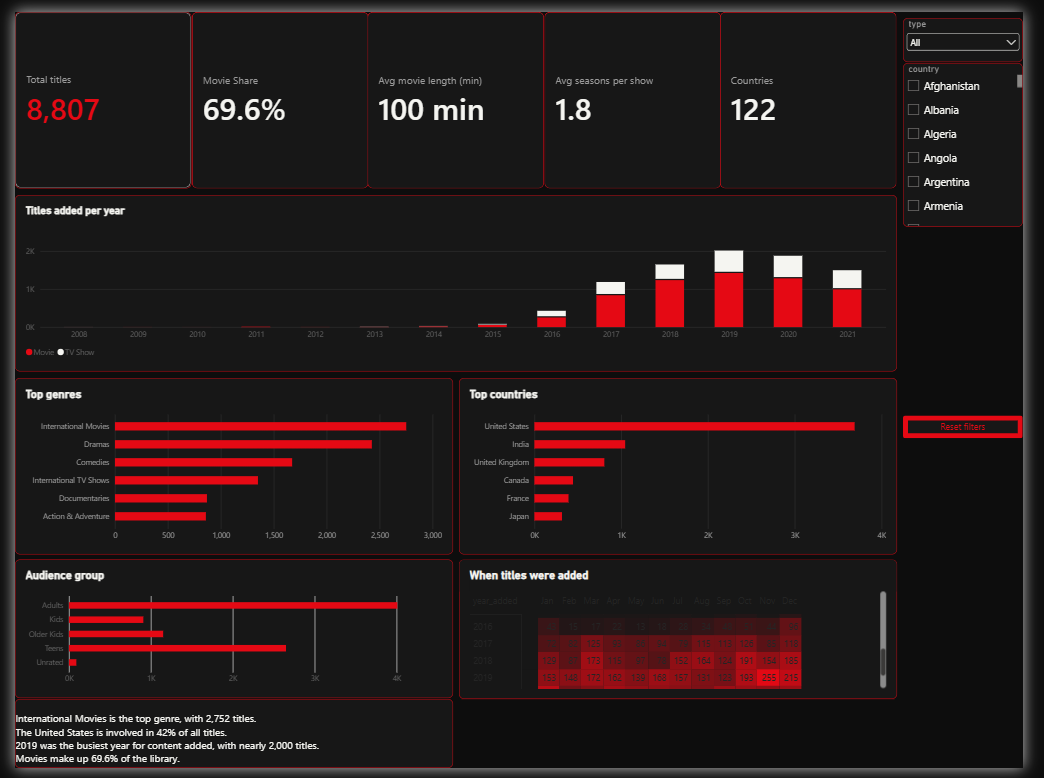

Layout of this report page (visuals, bound fields, positions):
{"tool":"powerbi","page":{"name":"Page 1","canvas":[1600,1200],"ordinal":0},"visuals":[{"type":"cardVisual","fields":{"Data":["netflix_cleaned.Total Titles Label"]},"box":[0,0,280,280],"z":0},{"type":"cardVisual","fields":{"Data":["netflix_cleaned.Movie Share"]},"box":[280,0,280,280],"z":1000},{"type":"cardVisual","fields":{"Data":["netflix_cleaned.Avg Movie Length"]},"box":[560,0,280,280],"z":2000},{"type":"cardVisual","fields":{"Data":["netflix_cleaned.Avg Seasons"]},"box":[840,0,280,280],"z":3000},{"type":"cardVisual","fields":{"Data":["netflix_cleaned.Countries"]},"box":[1120,0,280,280],"z":4000},{"type":"columnChart","title":" Titles added per year","fields":{"Category":["netflix_cleaned.year_added"],"Y":["netflix_cleaned.Total Titles"],"Series":["netflix_cleaned.type"]},"box":[0,290,1400,280],"z":5000},{"type":"clusteredBarChart","title":"Top genres","fields":{"Category":["netflix_genres.genre"],"Y":["CountNonNull(netflix_genres.show_id)"]},"box":[0,580,695,280],"z":6000},{"type":"clusteredBarChart","title":"Top countries","fields":{"Category":["netflix_countries.country"],"Y":["netflix_countries.Titles by Country"]},"box":[705,580,695,280],"z":7000},{"type":"slicer","fields":{"Values":["netflix_cleaned.type"]},"box":[1410,10,190,70],"z":8000},{"type":"slicer","fields":{"Values":["netflix_countries.country"]},"box":[1410,80,190,260],"z":9000},{"type":"actionButton","box":[1410,640,190,36],"z":9001},{"type":"clusteredBarChart","title":"Audience group","fields":{"Category":["netflix_cleaned.audience_group"],"Y":["netflix_cleaned.Total Titles"]},"box":[0,870,695,220],"z":9002},{"type":"pivotTable","title":"When titles were added","fields":{"Rows":["netflix_cleaned.year_added"],"Columns":["netflix_cleaned.month_name"],"Values":["netflix_cleaned.Total Titles"]},"box":[705,870,695,220],"z":9003},{"type":"textbox","box":[0,1090,1400,110],"z":9004}]}

Visuals, with their boxes in screenshot pixels (x1, y1, x2, y2), scaled from the page's 1600x1200 canvas onto the 1044x778 screenshot:
cardVisual - netflix_cleaned.Total Titles Label: 0, 0, 183, 182
cardVisual - netflix_cleaned.Movie Share: 183, 0, 365, 182
cardVisual - netflix_cleaned.Avg Movie Length: 365, 0, 548, 182
cardVisual - netflix_cleaned.Avg Seasons: 548, 0, 731, 182
cardVisual - netflix_cleaned.Countries: 731, 0, 914, 182
" Titles added per year" columnChart: 0, 188, 914, 370
"Top genres" clusteredBarChart: 0, 376, 453, 558
"Top countries" clusteredBarChart: 460, 376, 914, 558
slicer - netflix_cleaned.type: 920, 6, 1043, 52
slicer - netflix_countries.country: 920, 52, 1043, 220
actionButton: 920, 415, 1043, 438
"Audience group" clusteredBarChart: 0, 564, 453, 707
"When titles were added" pivotTable: 460, 564, 914, 707
textbox: 0, 707, 914, 777
